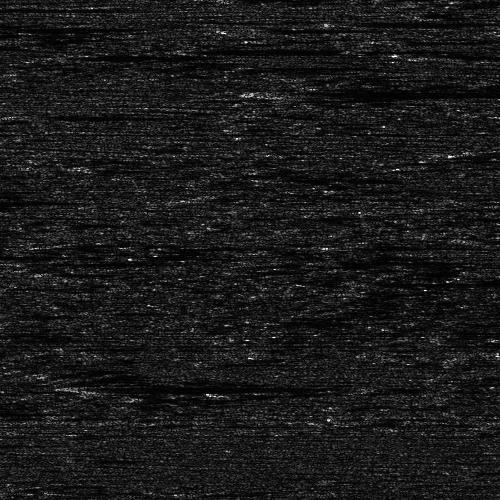object: (241, 86, 304, 99), (389, 52, 472, 59), (318, 18, 401, 25), (257, 14, 268, 41), (78, 383, 131, 388), (453, 112, 500, 117), (30, 113, 71, 118)
shadow: (273, 86, 500, 99), (263, 14, 357, 41), (105, 383, 323, 388), (360, 18, 500, 25), (51, 113, 185, 118), (431, 52, 500, 59), (0, 6, 146, 9), (187, 48, 326, 51)
